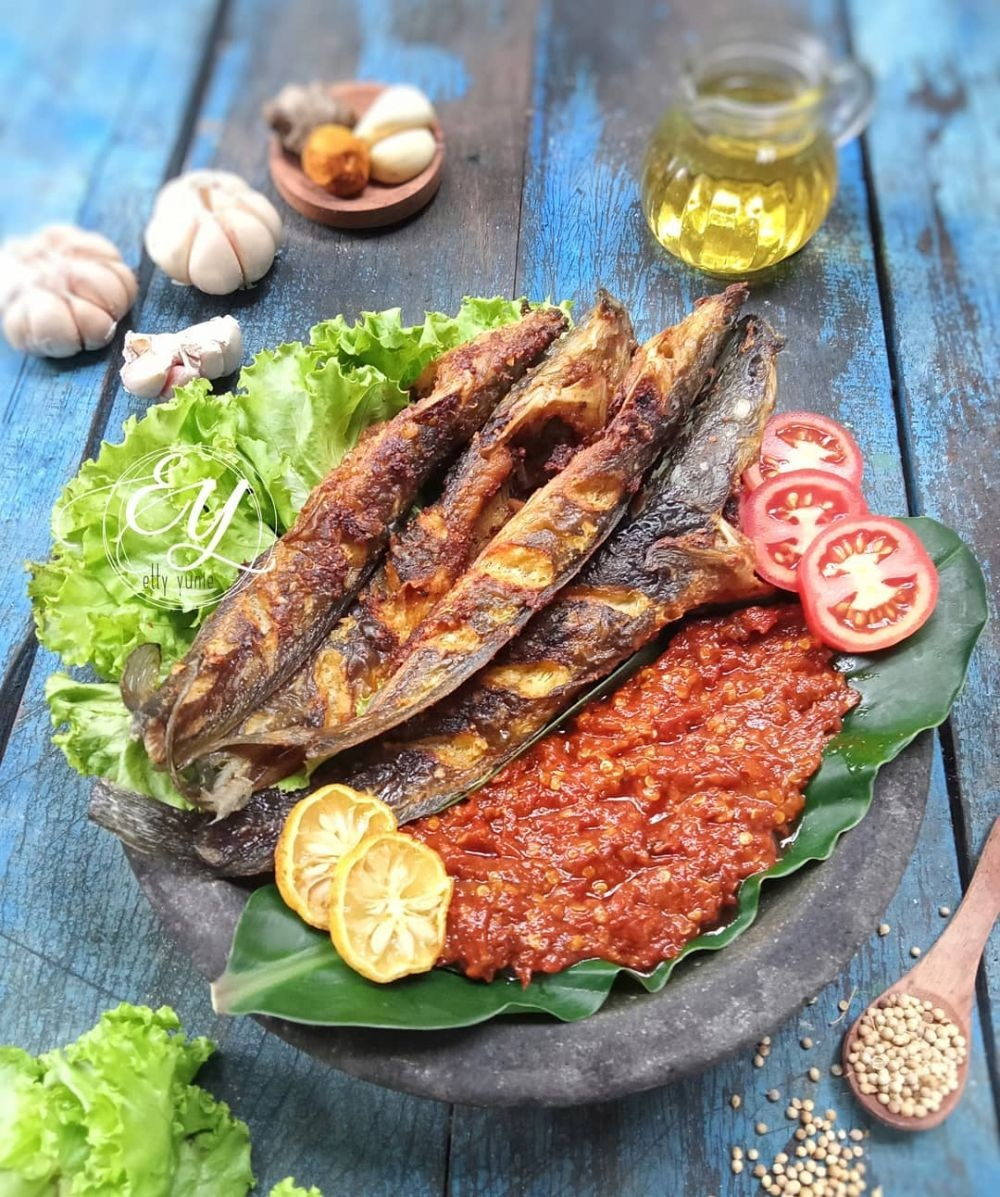pecel_lele: (392, 368, 680, 747)
